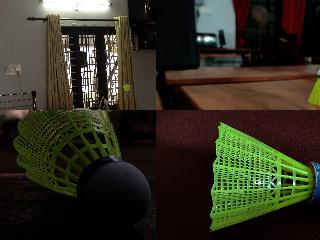shuttlecock: (12, 110, 150, 226), (209, 121, 319, 234), (307, 67, 319, 106), (122, 84, 130, 94)
